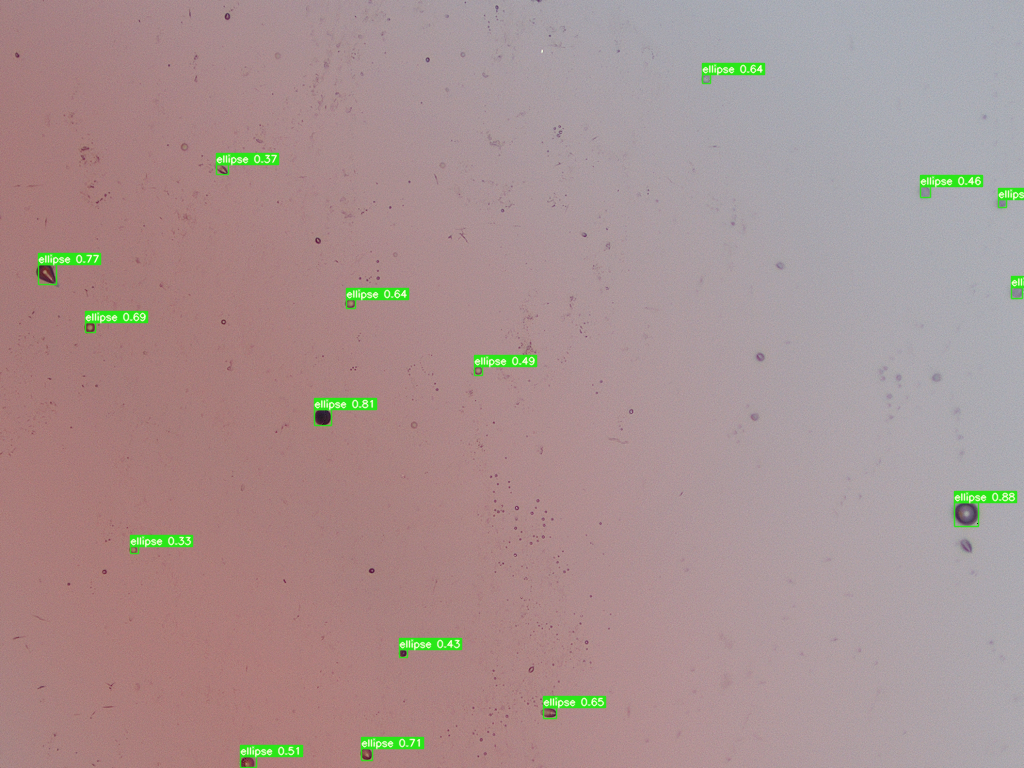circle: (956, 502, 977, 523), (314, 408, 331, 425), (360, 748, 372, 759), (84, 321, 95, 332), (1013, 286, 1023, 297), (920, 187, 930, 197), (701, 73, 711, 82), (345, 298, 354, 307), (474, 366, 482, 374), (997, 199, 1005, 206), (129, 545, 136, 552), (411, 421, 417, 428), (399, 650, 406, 656), (757, 354, 763, 360), (369, 568, 373, 572), (221, 320, 225, 323), (102, 570, 106, 573)
ellipse: (36, 263, 57, 283), (540, 707, 557, 718), (961, 538, 973, 552), (214, 163, 228, 174), (315, 237, 321, 243)
